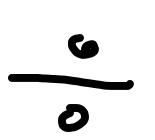div: (8, 34, 134, 132)
